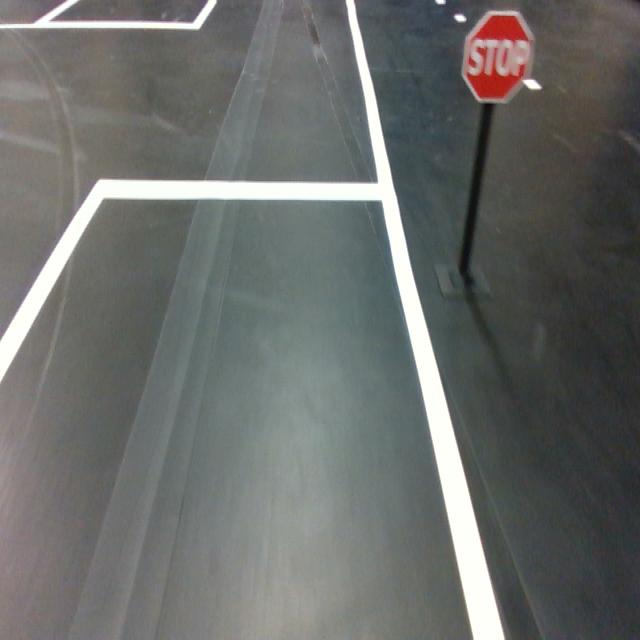stop-sign: (460, 10, 535, 104)
